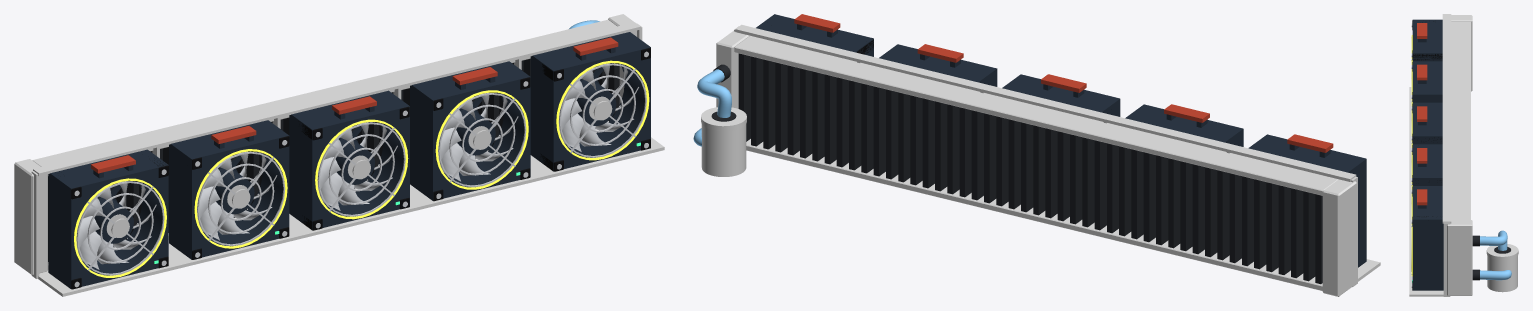
File: hwm_cool_coldplate_gpu.glb
3 views of the same model, side by side, from view 1: azimuth 30°, elevation 25°; view 2: azimuth 150°, elevation 25°; view 3: azimuth 270°, elevation 25° (orthographic). The views are drawn at different scales.
Parts seen in each view (by area): view 1: Body, Rotor_Z_1, Rotor_Z_3, Rotor_Z_4, Rotor_Z_2, Rotor_Z_0; view 2: Body, Flow_0; view 3: Body, Flow_0, Flow_1.
Part boxes in pixels (left/top/right/bottom): Body: left=14, top=14, right=664, bottom=296; Rotor_Z_1: left=197, top=151, right=277, bottom=240; Rotor_Z_3: left=438, top=92, right=518, bottom=181; Rotor_Z_4: left=558, top=63, right=638, bottom=151; Rotor_Z_2: left=317, top=122, right=397, bottom=210; Rotor_Z_0: left=76, top=181, right=156, bottom=269; Body: left=701, top=14, right=1380, bottom=296; Flow_0: left=697, top=69, right=731, bottom=117; Body: left=1409, top=14, right=1518, bottom=296; Flow_0: left=1480, top=230, right=1507, bottom=250; Flow_1: left=1480, top=270, right=1511, bottom=280.
Bounding box in the file's own units: 0.582 × 0.1033 × 0.1276.
